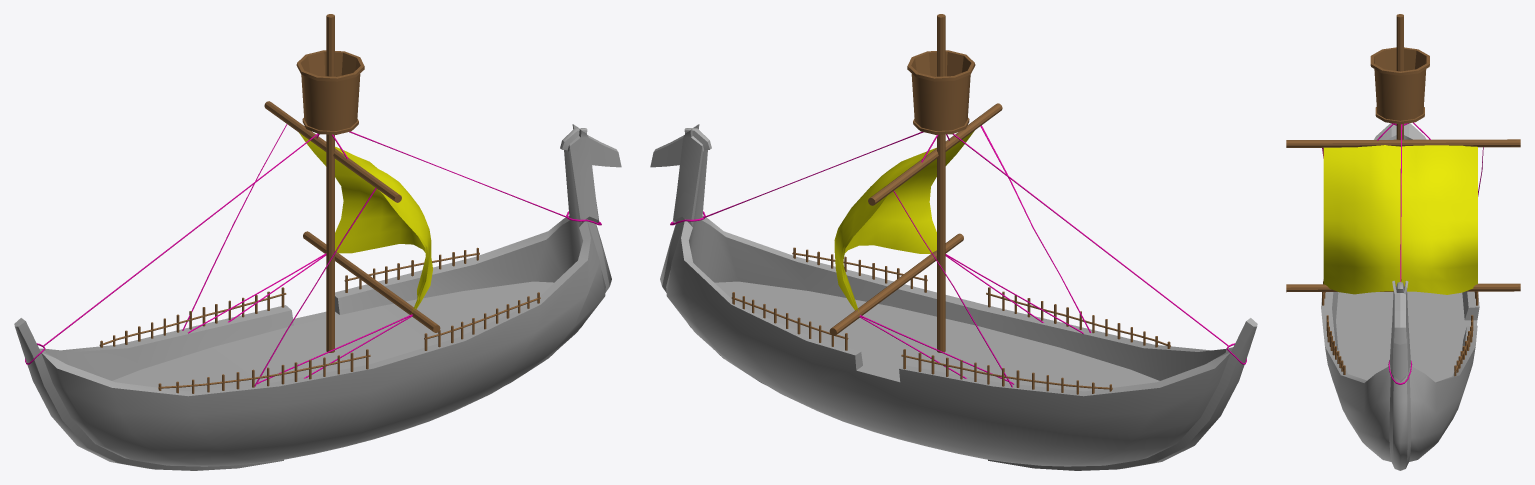
Rendered from Barco3Nuevo.fbx.
3 views of the same model, side by side, from view 1: azimuth 30°, elevation 25°; view 2: azimuth 150°, elevation 25°; view 3: azimuth 270°, elevation 25° (orthographic). The views are drawn at different scales.
Visible parts, largest first — view 1: Barco3Nuevo; view 2: Barco3Nuevo; view 3: Barco3Nuevo.
Boxes of the visible parts, x1,y1,x2,y2 form: Barco3Nuevo: (14, 14, 621, 470); Barco3Nuevo: (650, 14, 1257, 470); Barco3Nuevo: (1286, 14, 1520, 470).
Size of the model in its own units: 167167 by 114146 by 61500.
